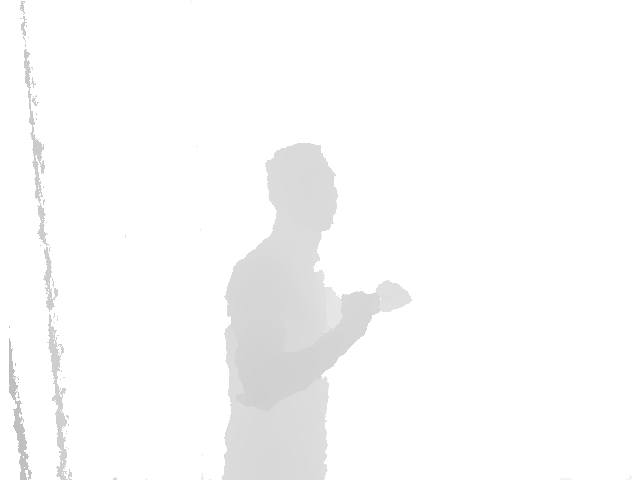head: (266, 143, 339, 238)
person: (219, 146, 413, 480)
